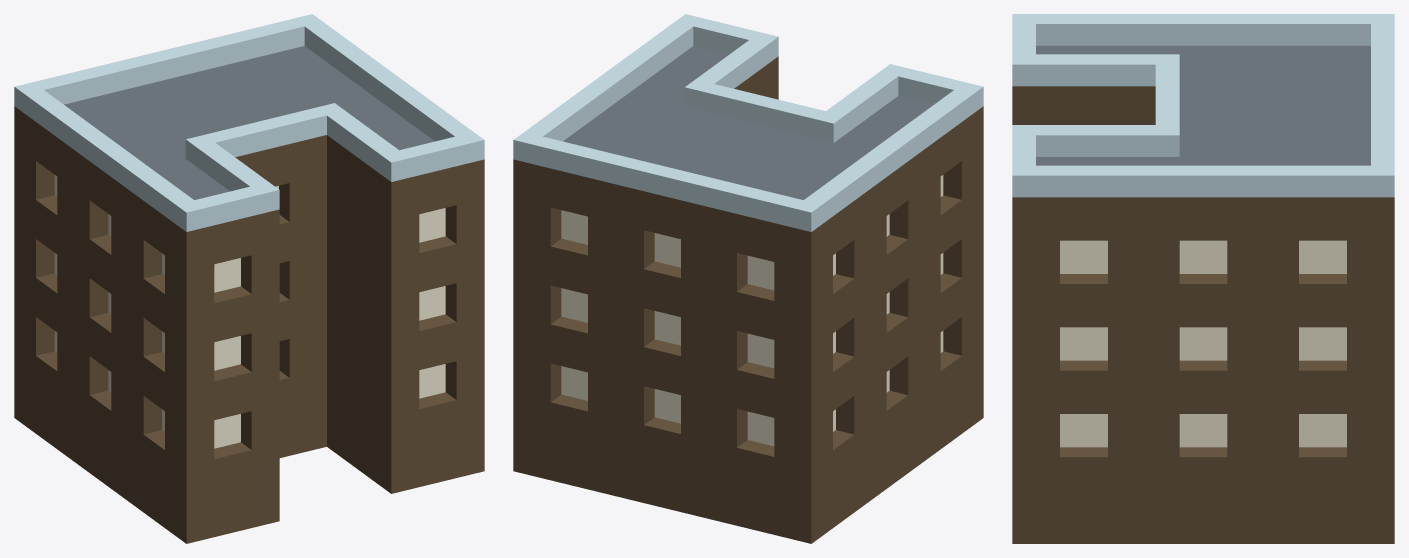
File: Building_5 (Brown).obj
3 renders of one model, left to right at view 1: azimuth 30°, elevation 25°; view 2: azimuth 150°, elevation 25°; view 3: azimuth 270°, elevation 25°, orthographic. The views are drawn at different scales.
Visible parts, largest first — view 1: Building_5_(Brown); view 2: Building_5_(Brown); view 3: Building_5_(Brown).
Part boxes in pixels (left/top/right/bottom): Building_5_(Brown): left=14, top=14, right=484, bottom=543; Building_5_(Brown): left=513, top=14, right=983, bottom=543; Building_5_(Brown): left=1012, top=14, right=1394, bottom=543.
Size of the model in its own units: 1.6 by 1.7 by 1.6.
